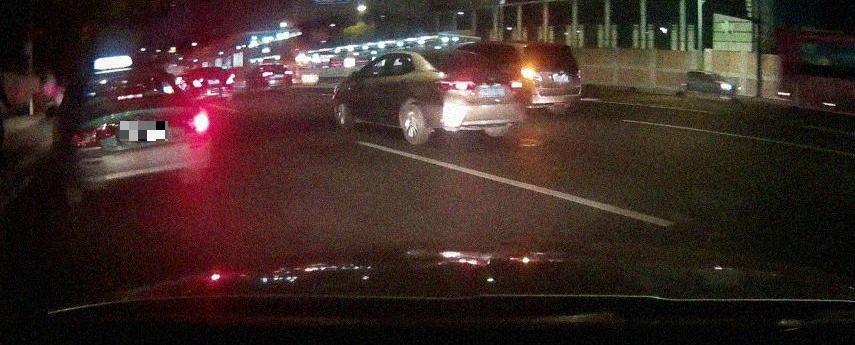L_light: (69, 124, 114, 150), (435, 80, 476, 94)
R_light: (169, 110, 209, 132), (504, 79, 523, 93)
T_light: (117, 93, 142, 100), (448, 53, 465, 56)
night-no: (416, 48, 523, 145)
night-right: (67, 65, 212, 206)
plate_1: (120, 121, 168, 141)
